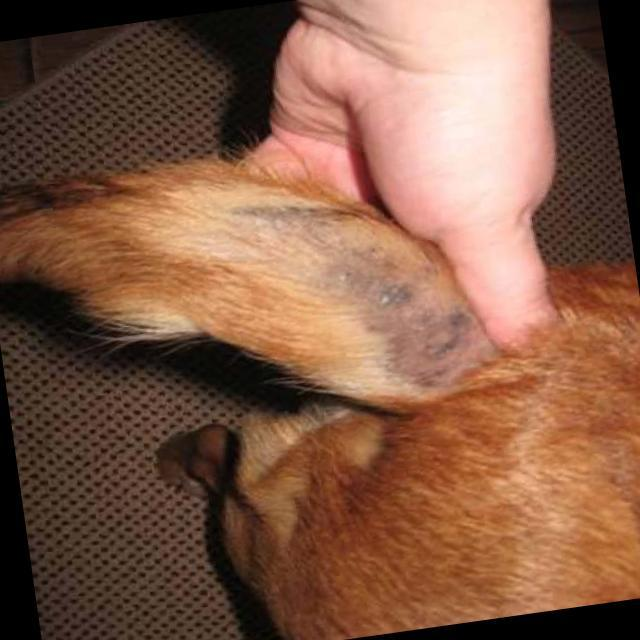allergic dermatitis: (222, 196, 492, 388)
